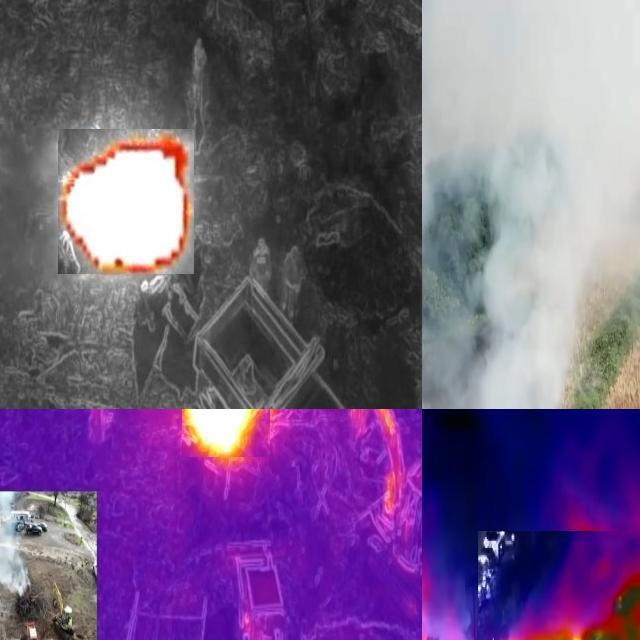fire: (58, 129, 194, 274), (478, 531, 640, 640), (170, 407, 263, 468)
